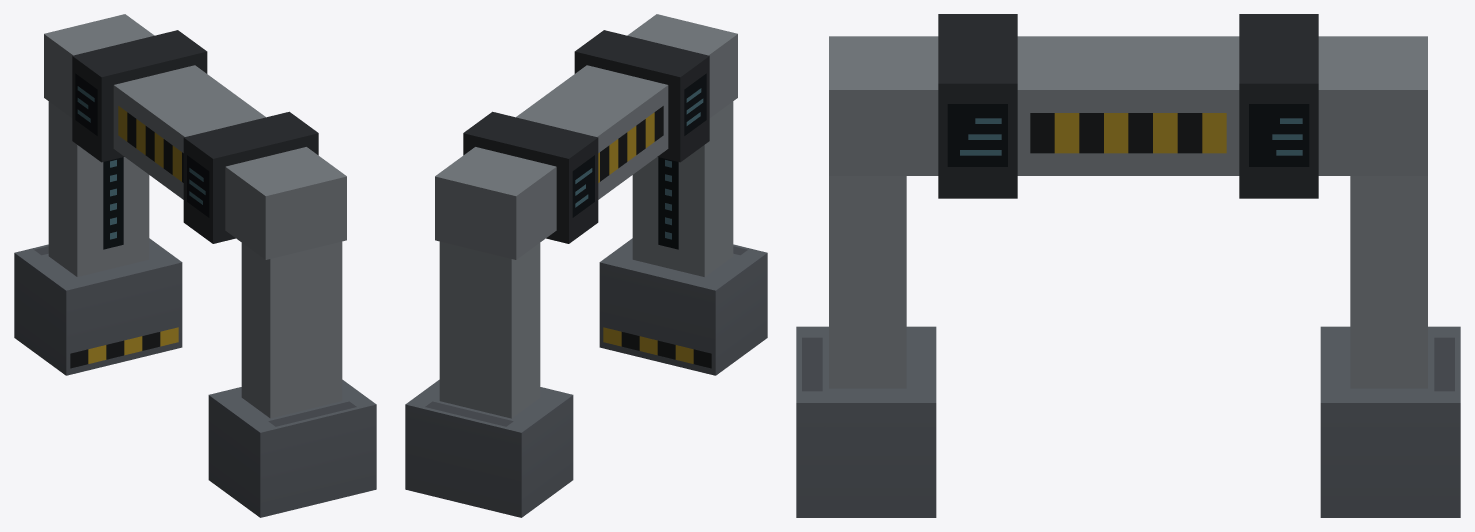
Rendered from machine.scanner.grey.glb.
3 renders of one model, left to right at view 1: azimuth 30°, elevation 25°; view 2: azimuth 150°, elevation 25°; view 3: azimuth 270°, elevation 25°, orthographic. The views are drawn at different scales.
Visible parts, largest first — view 1: machine_scanner_grey; view 2: machine_scanner_grey; view 3: machine_scanner_grey.
Part boxes in pixels (x1,y1,x2,y2): machine_scanner_grey: (14, 14, 376, 517); machine_scanner_grey: (405, 14, 767, 517); machine_scanner_grey: (796, 14, 1460, 517).
Size of what is drawn, in the model's own units: 1.14 by 3 by 4.19.
